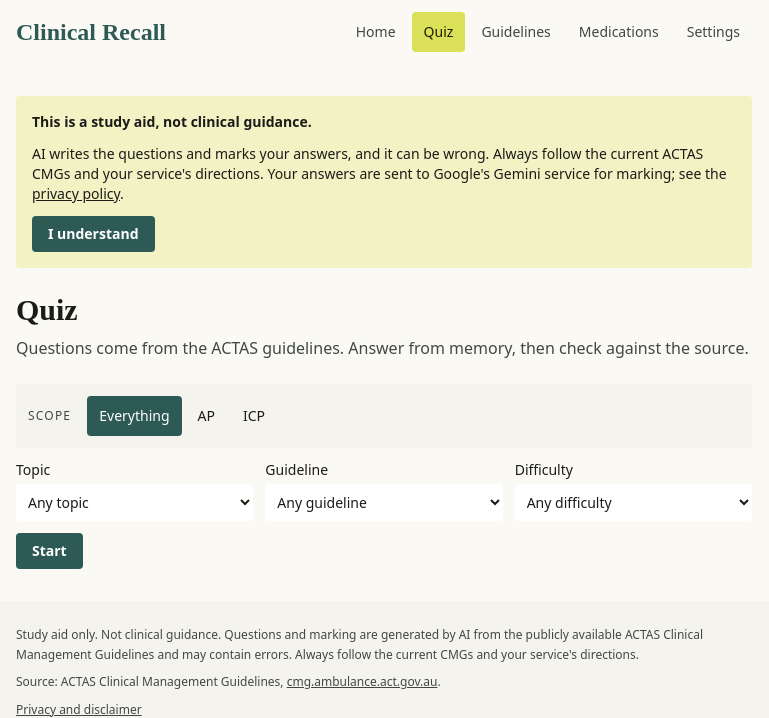
Test: quiz › shows why an answer wasn't scored
Step 1. Click the button "Start" → (49, 551), box [16, 533, 83, 569]
(page scrolled)
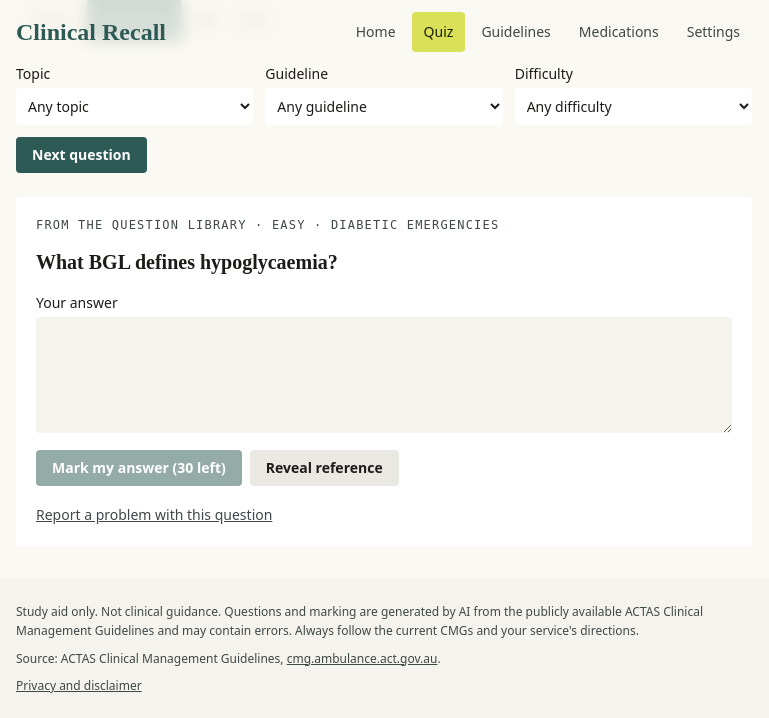
Step 2. Type "Below 4" into the text box labelled "Your answer" → (384, 374), box [36, 316, 732, 432]
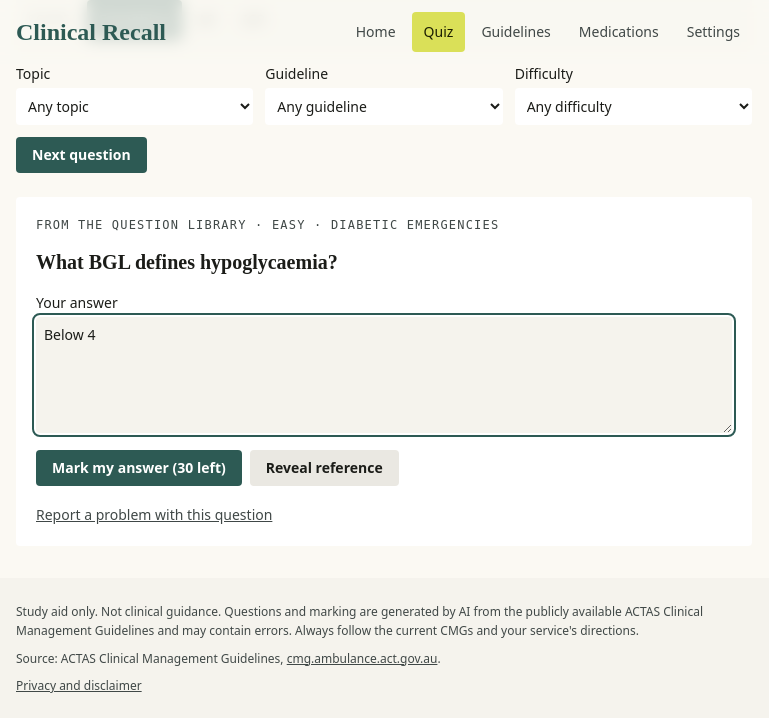
Step 3. Click the button "Mark my answer (30 left)" → (139, 468), box [36, 450, 242, 486]
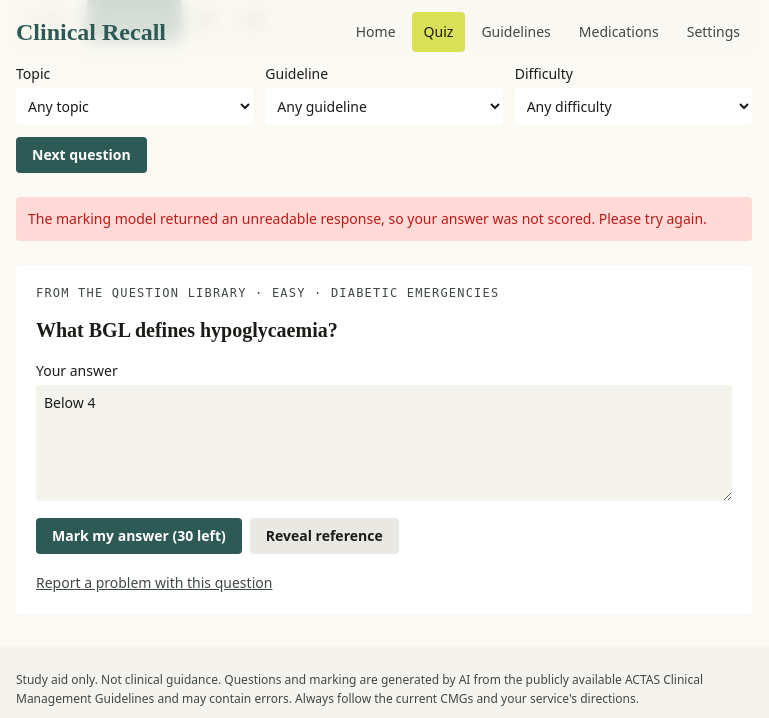
Check: the message shows "not scored", box [28, 209, 707, 228]
